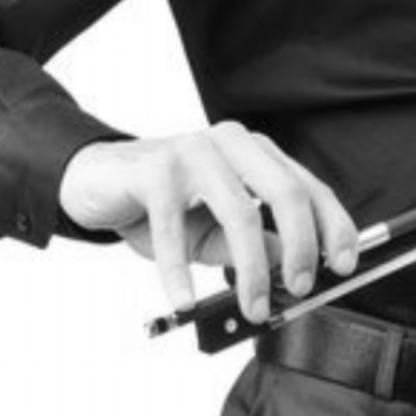bad: (130, 110, 374, 337)
